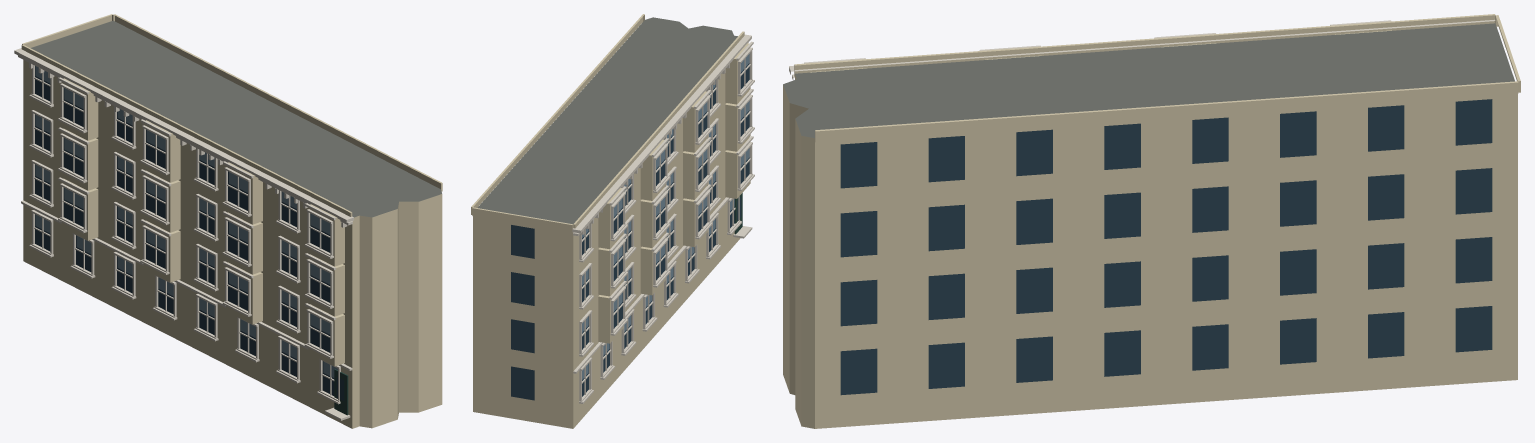
3 views of the same model, side by side, from view 1: azimuth 30°, elevation 25°; view 2: azimuth 150°, elevation 25°; view 3: azimuth 270°, elevation 25° (orthographic). The views are drawn at different scales.
Visible parts, largest first — view 1: Footprint 0 / surface 2, Cornices and window frames, Footprint 0 / surface 1, Facade bay volumes, Inset glazing, Sky reflection panels, Storefronts and doors; view 2: Footprint 0 / surface 2, Footprint 0 / surface 1, Cornices and window frames, Facade bay volumes, Inset glazing, Sky reflection panels; view 3: Footprint 0 / surface 2, Inset glazing, Footprint 0 / surface 1, Facade bay volumes, Cornices and window frames.
Part boxes in pixels (box(x1,y1,x2,y2)): Footprint 0 / surface 2: box(23, 60, 442, 428); Cornices and window frames: box(14, 48, 353, 420); Footprint 0 / surface 1: box(30, 20, 441, 217); Facade bay volumes: box(21, 14, 442, 366); Inset glazing: box(35, 66, 344, 400); Sky reflection panels: box(35, 66, 337, 377); Storefronts and doors: box(334, 369, 348, 415); Footprint 0 / surface 2: box(473, 73, 740, 428); Footprint 0 / surface 1: box(477, 17, 737, 224); Cornices and window frames: box(572, 34, 754, 403); Facade bay volumes: box(471, 14, 750, 343); Inset glazing: box(511, 63, 749, 400); Sky reflection panels: box(582, 54, 749, 379); Footprint 0 / surface 2: box(783, 74, 1517, 428); Inset glazing: box(840, 99, 1492, 395); Footprint 0 / surface 1: box(783, 23, 1514, 138); Facade bay volumes: box(794, 14, 1520, 142); Cornices and window frames: box(789, 19, 1495, 80).
Size of the model in its own units: 11.31 by 12.91 by 28.89.
